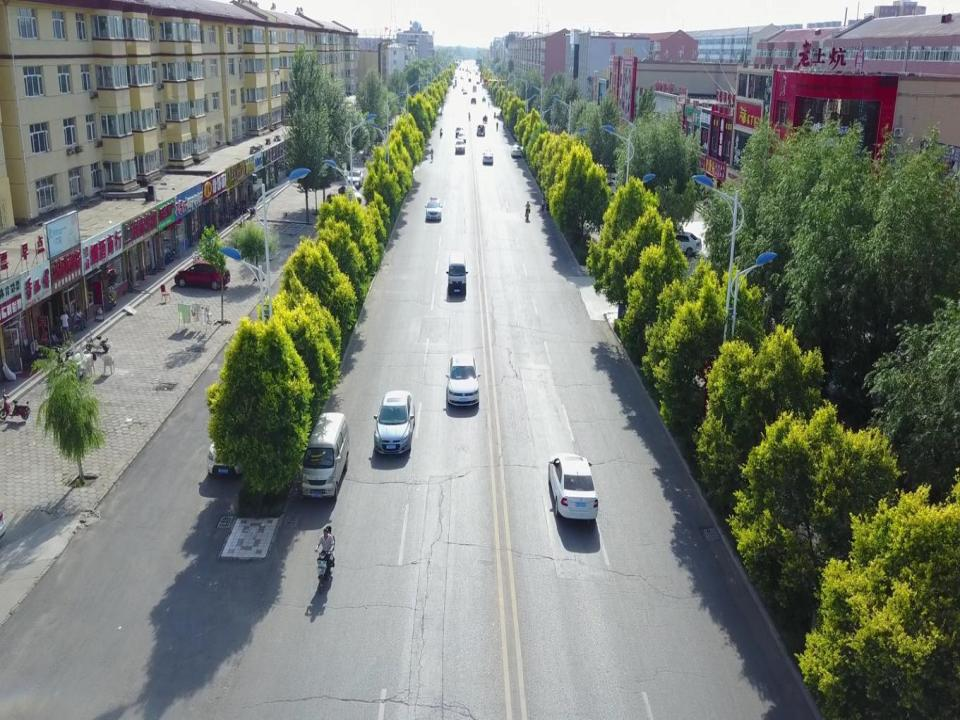car: (548, 453, 598, 524), (373, 390, 415, 454), (445, 354, 481, 406), (174, 261, 230, 290), (662, 232, 702, 256), (338, 186, 362, 206), (425, 198, 443, 220), (346, 170, 363, 188), (326, 193, 342, 209), (482, 150, 494, 164), (511, 145, 522, 157), (457, 132, 466, 143), (477, 125, 486, 136), (456, 127, 464, 137)
van: (301, 412, 350, 501), (446, 250, 468, 294), (589, 164, 620, 180), (455, 140, 465, 154)
